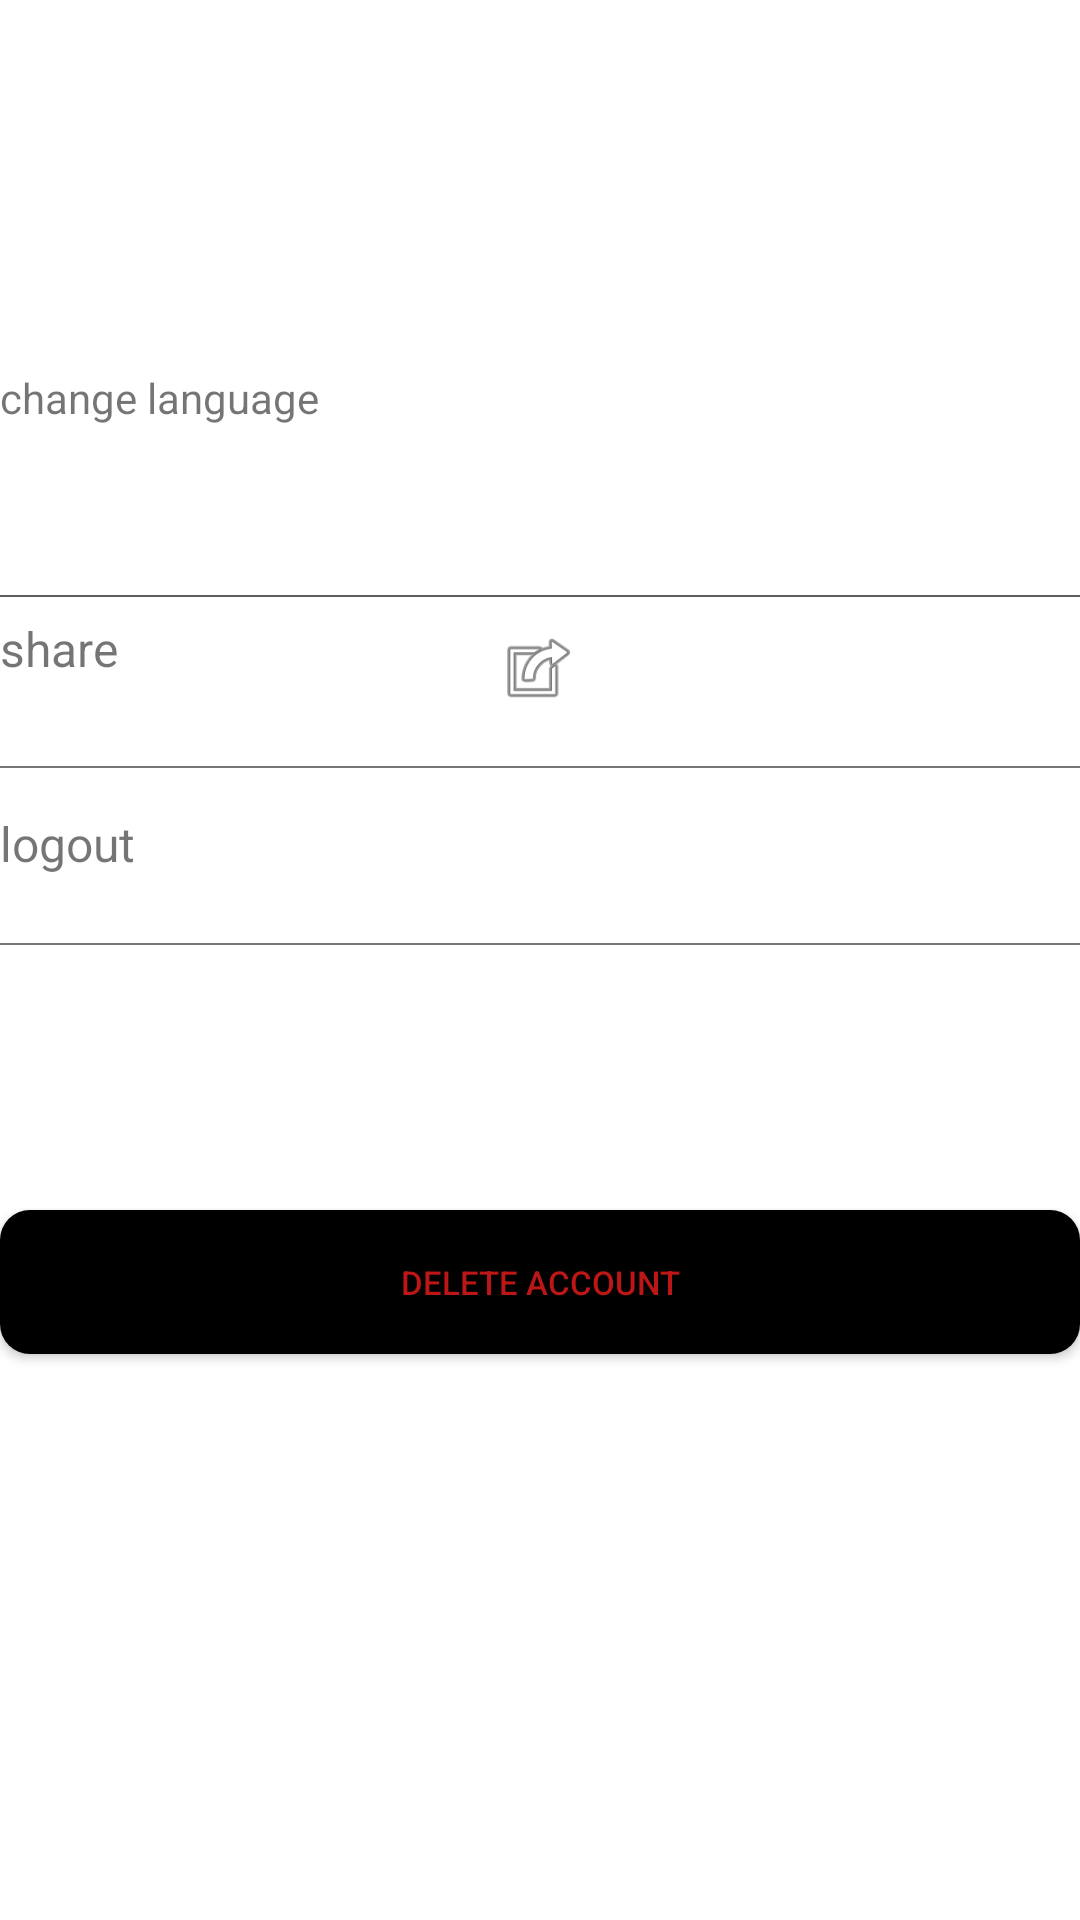

Icons on this 1080×1920 Android screen, each with its box as rect(x1, y1, x2, y2):
set as: rect(507, 639, 570, 697)
